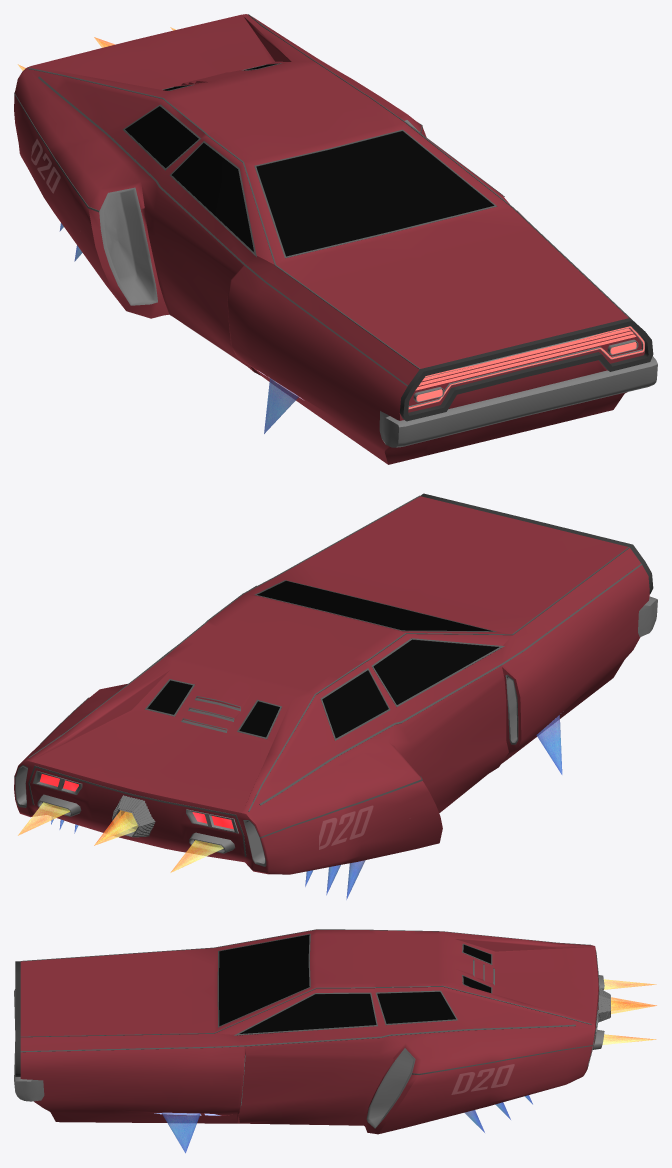
The picture shows the model from 3 angles, top to bottom: view 1: azimuth 30°, elevation 25°; view 2: azimuth 150°, elevation 25°; view 3: azimuth 270°, elevation 25°; orthographic projection. The views are drawn at different scales.
Parts seen in each view (by area): view 1: D20Body, F_Bumper, ChromeLine, HeadLight2, Light, Cone_5, HeadLight; view 2: D20Body, ChromeLine, Cone_2_2, Main_Exhaust, Cone_5, Cone, F_Bumper; view 3: D20Body, ChromeLine, Cone_5, F_Bumper, Cone_2_2, Cone, Main_Exhaust.
Boxes of the visible parts, bbox=[...] form: D20Body: bbox=[14, 14, 653, 464]; F_Bumper: bbox=[379, 356, 657, 447]; ChromeLine: bbox=[14, 14, 631, 386]; HeadLight2: bbox=[415, 328, 636, 390]; Light: bbox=[408, 326, 644, 409]; Cone_5: bbox=[264, 378, 298, 433]; HeadLight: bbox=[413, 339, 638, 402]; D20Body: bbox=[14, 493, 653, 874]; ChromeLine: bbox=[14, 495, 642, 856]; Cone_2_2: bbox=[18, 802, 223, 872]; Main_Exhaust: bbox=[112, 795, 155, 837]; Cone_5: bbox=[536, 715, 562, 774]; Cone: bbox=[94, 810, 138, 845]; F_Bumper: bbox=[638, 596, 657, 637]; D20Body: bbox=[15, 930, 604, 1134]; ChromeLine: bbox=[20, 929, 599, 1074]; Cone_5: bbox=[162, 1112, 200, 1153]; F_Bumper: bbox=[14, 989, 44, 1101]; Cone_2_2: bbox=[602, 979, 656, 1044]; Cone: bbox=[611, 997, 656, 1014]; Main_Exhaust: bbox=[598, 988, 610, 1022].
Bounding box in the file's own units: 2.71 × 1.46 × 6.01.
Materials: 13 (4 with a texture image).
